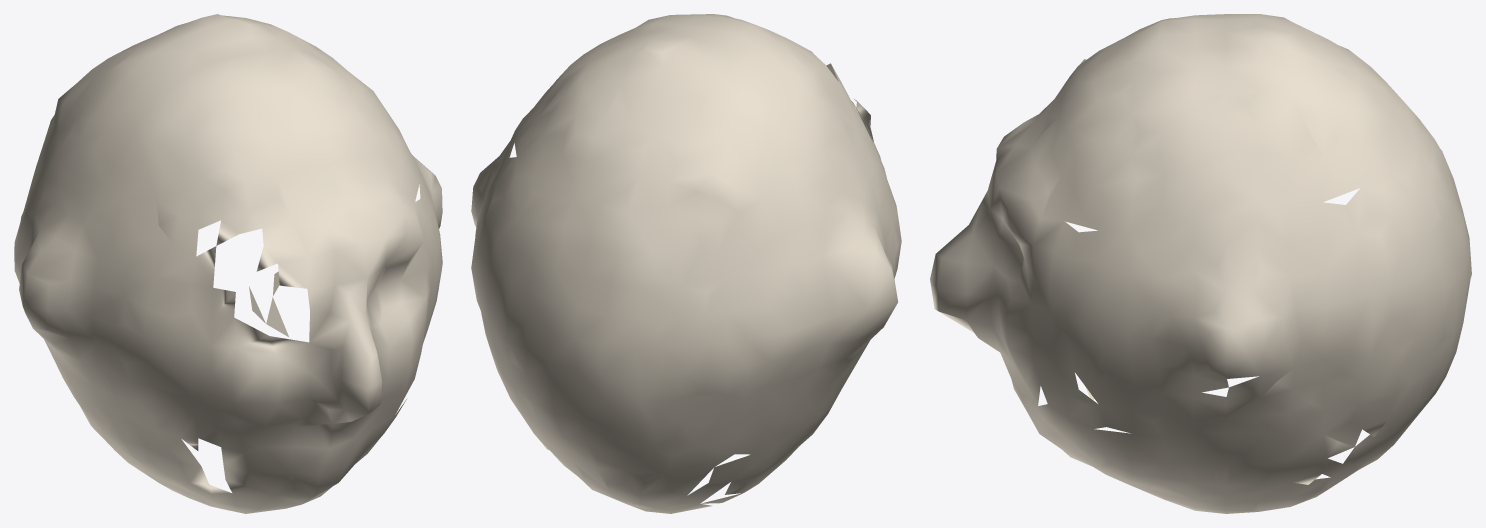
The model's file is SM_HelenKellerBust_LOD3.glb.
The picture shows the model from 3 angles, left to right: view 1: azimuth 30°, elevation 25°; view 2: azimuth 150°, elevation 25°; view 3: azimuth 270°, elevation 25°; orthographic projection. The views are drawn at different scales.
Parts seen in each view (by area): view 1: SM_HelenKellerBust_LOD3; view 2: SM_HelenKellerBust_LOD3; view 3: SM_HelenKellerBust_LOD3.
Boxes of the visible parts, x1=… form: SM_HelenKellerBust_LOD3: x1=14, y1=14, x2=442, y2=513; SM_HelenKellerBust_LOD3: x1=471, y1=14, x2=901, y2=513; SM_HelenKellerBust_LOD3: x1=930, y1=14, x2=1471, y2=513.
Size of the model in its own units: 0.5008 by 0.5248 by 0.5453.
